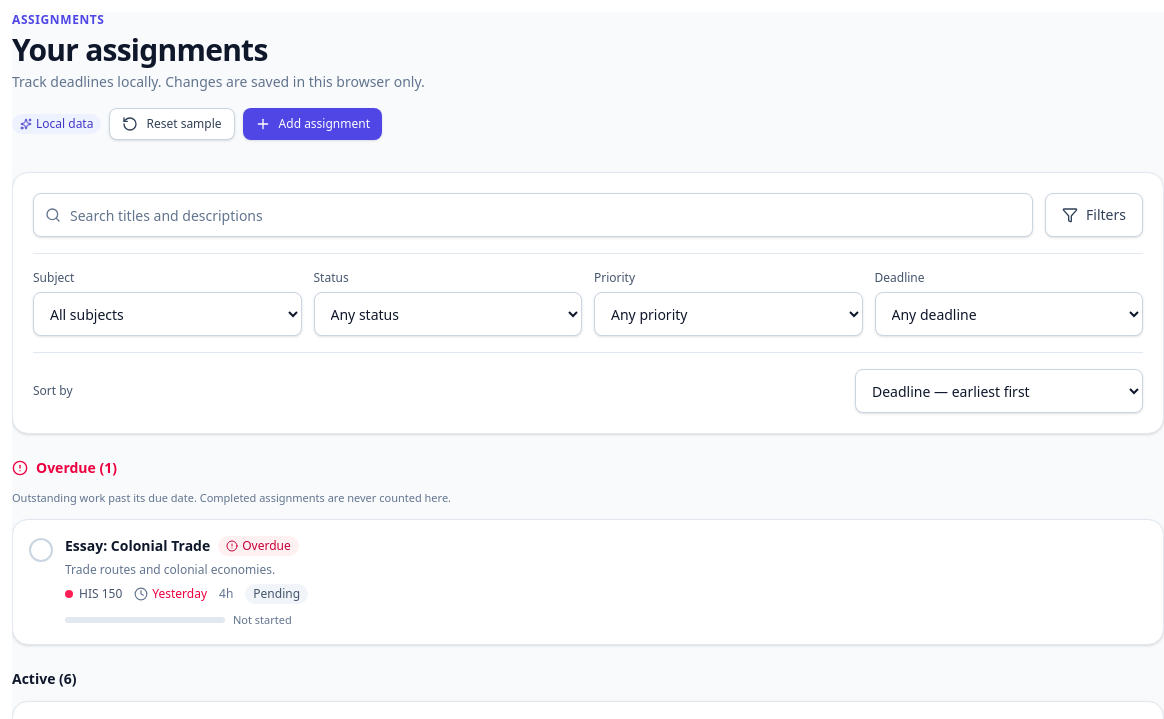
Test: assignments page › clears every filter at once
The width and height of the screenshot is (1164, 719).
Type "zzzz" into the search field named "search assignments" at (533, 215), box 33,193 -> 1033,237
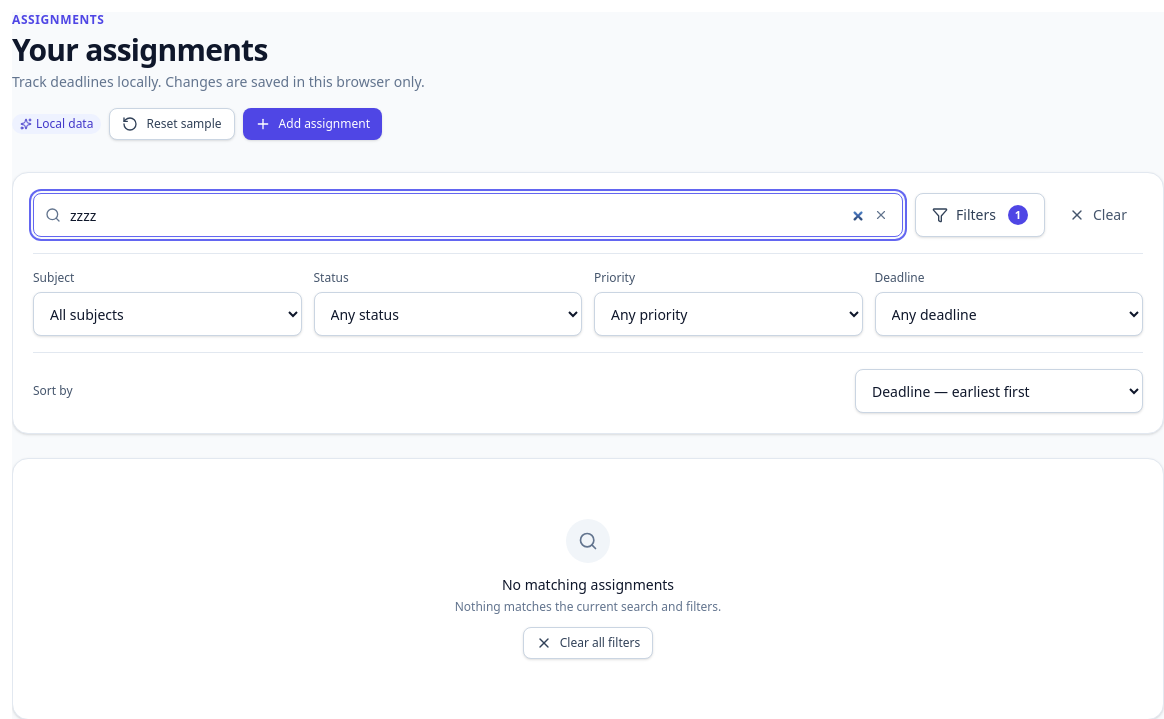
Check: the text "No matching assignments" is shown, box 502,575 -> 674,594
Click the button "Clear all filters" at (588, 643), box 523,627 -> 653,659
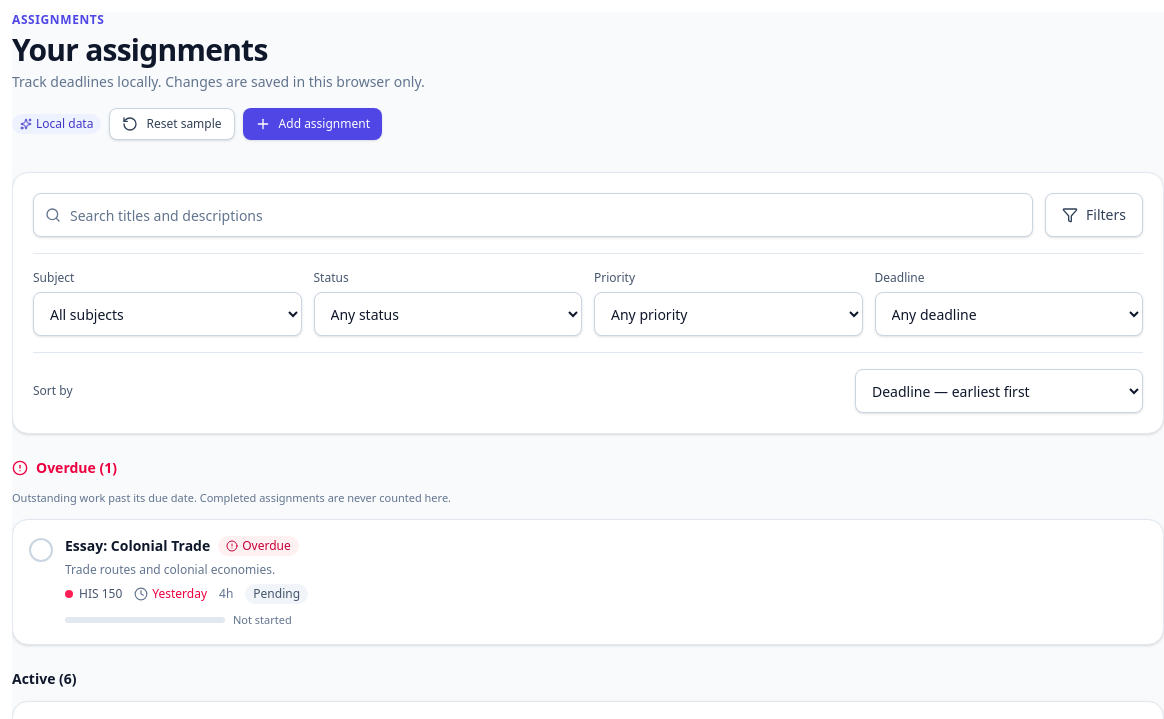
Check: the text "No matching assignments" is gone
Check: the search field named "search assignments" is empty, box 33,193 -> 1033,237
